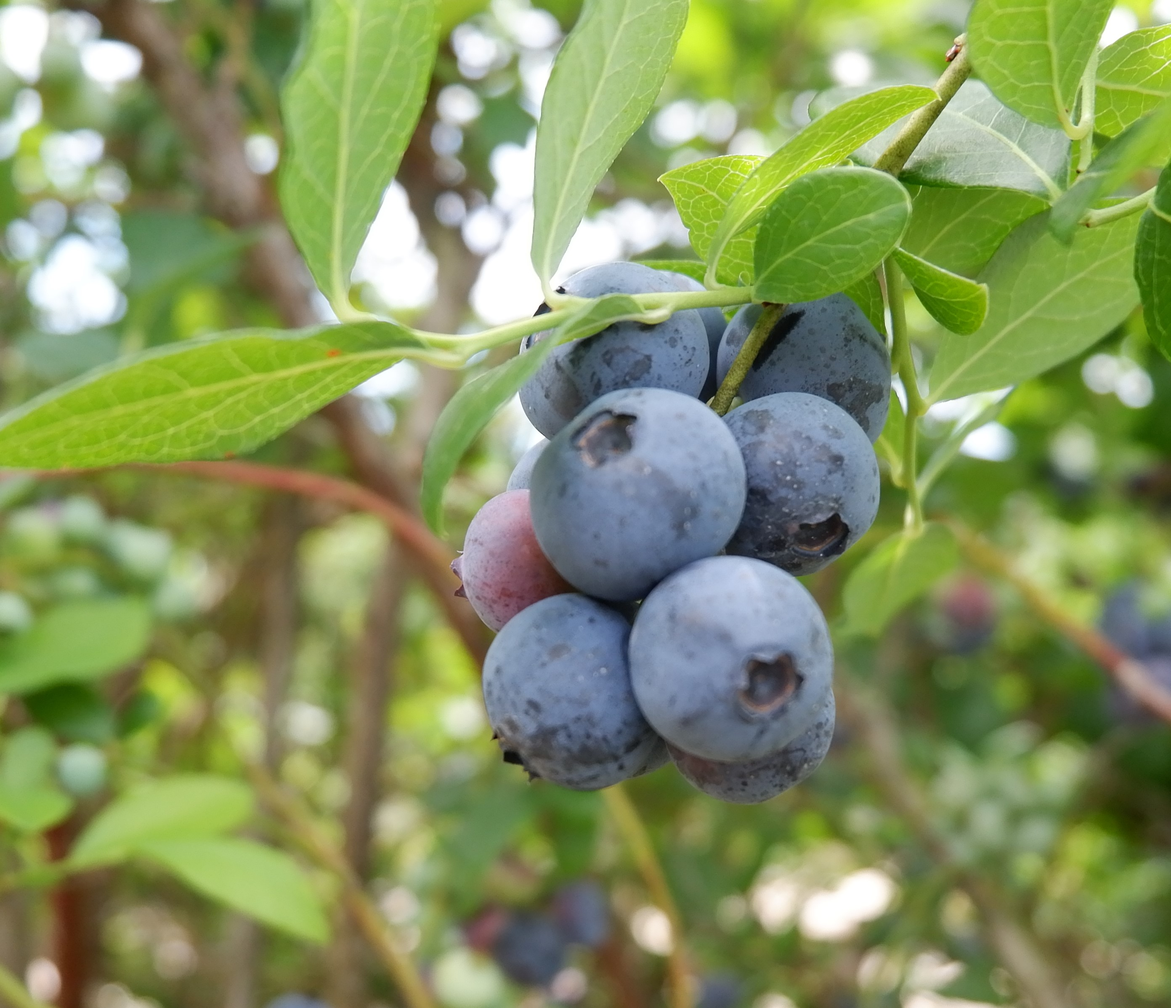Immature: (455, 492, 570, 629), (507, 437, 550, 492)
Mature: (536, 388, 745, 598), (629, 556, 832, 761), (481, 594, 671, 788), (518, 262, 711, 440), (724, 398, 880, 575), (717, 298, 892, 443), (664, 687, 838, 807), (658, 270, 729, 402)
